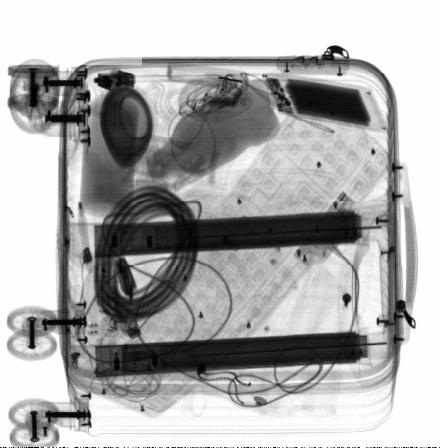Powerbank: (264, 73, 388, 132)
